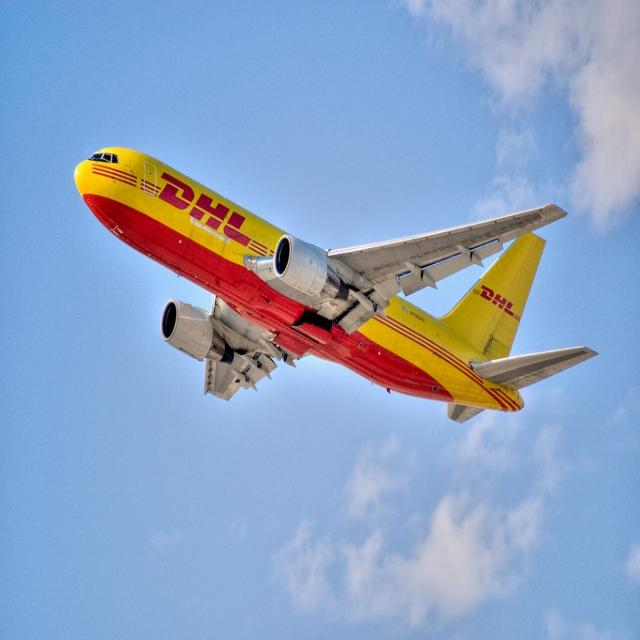dhl: (135, 168, 275, 262), (473, 276, 528, 323)
